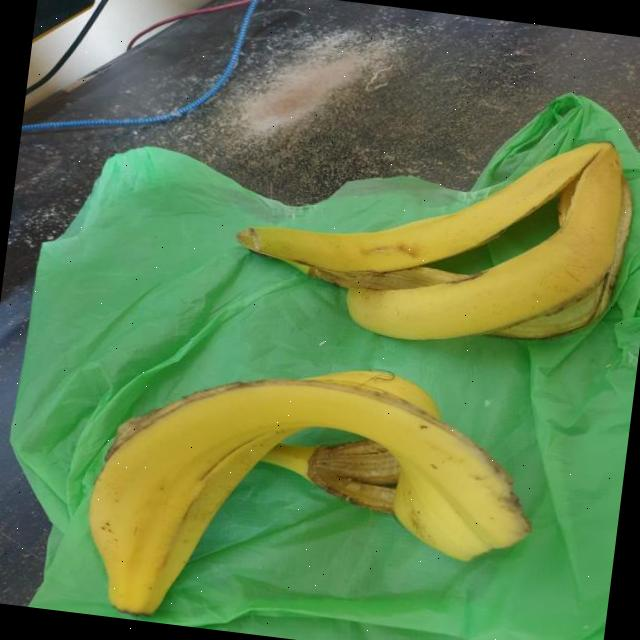banana-peel: (74, 335, 547, 640), (226, 96, 640, 366)
